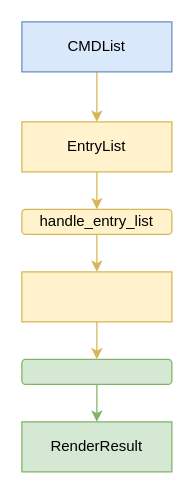
The diagram is 194 pixels wide and 504 high, and some of its shapes have lost their labels. Each missing label, with the centre of its shape:
render_fruits: [96,371]
ResultFruits: [96,296]
